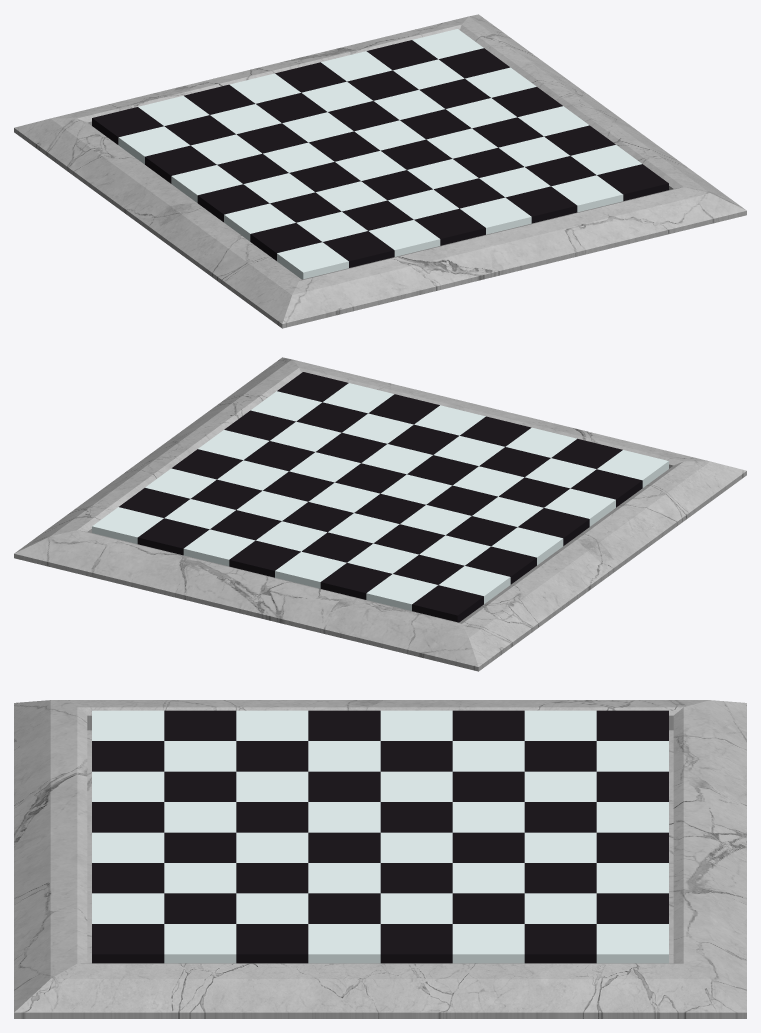
The model's file is chess_board.glb.
The picture shows the model from 3 angles, top to bottom: view 1: azimuth 30°, elevation 25°; view 2: azimuth 150°, elevation 25°; view 3: azimuth 270°, elevation 25°; orthographic projection. The views are drawn at different scales.
Visible parts, largest first — view 1: Board.003, Frame 02.002; view 2: Board.003, Frame 02.002; view 3: Board.003, Frame 02.002.
Part boxes in pixels (x1,y1,x2,y2): Board.003: (92, 29, 668, 279); Frame 02.002: (14, 14, 746, 328); Board.003: (92, 372, 668, 622); Frame 02.002: (14, 357, 746, 671); Board.003: (92, 710, 668, 963); Frame 02.002: (14, 700, 746, 1018).
Bounding box in the file's own units: 61 × 2.89 × 61.
3 materials, 1 textured.
